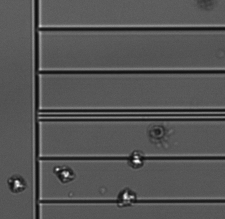Dead Cell: (149, 125, 165, 141)
Living Cell: (54, 165, 75, 184), (118, 188, 136, 207), (8, 175, 25, 193), (128, 151, 144, 169)
